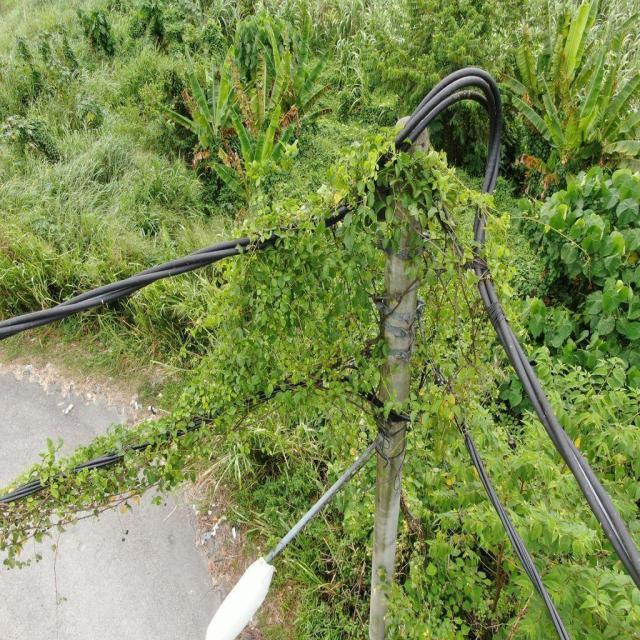critical vegetation: (1, 104, 502, 589)
